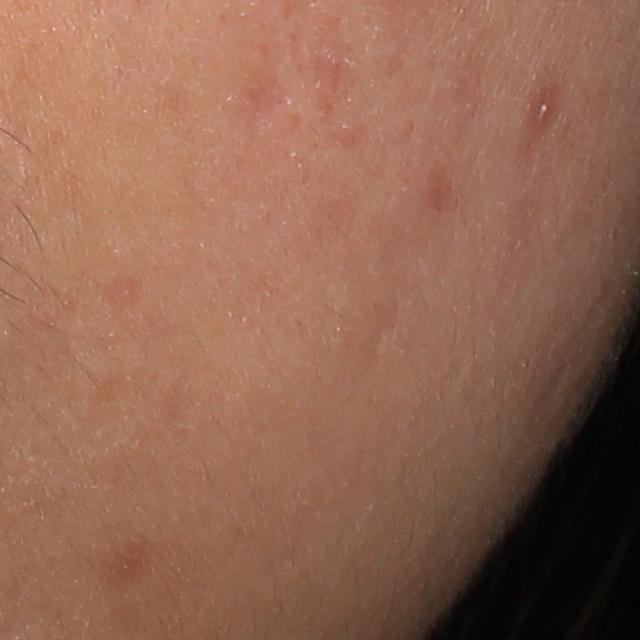atrophic_scar: (239, 65, 283, 119)
papule: (523, 81, 559, 135)
